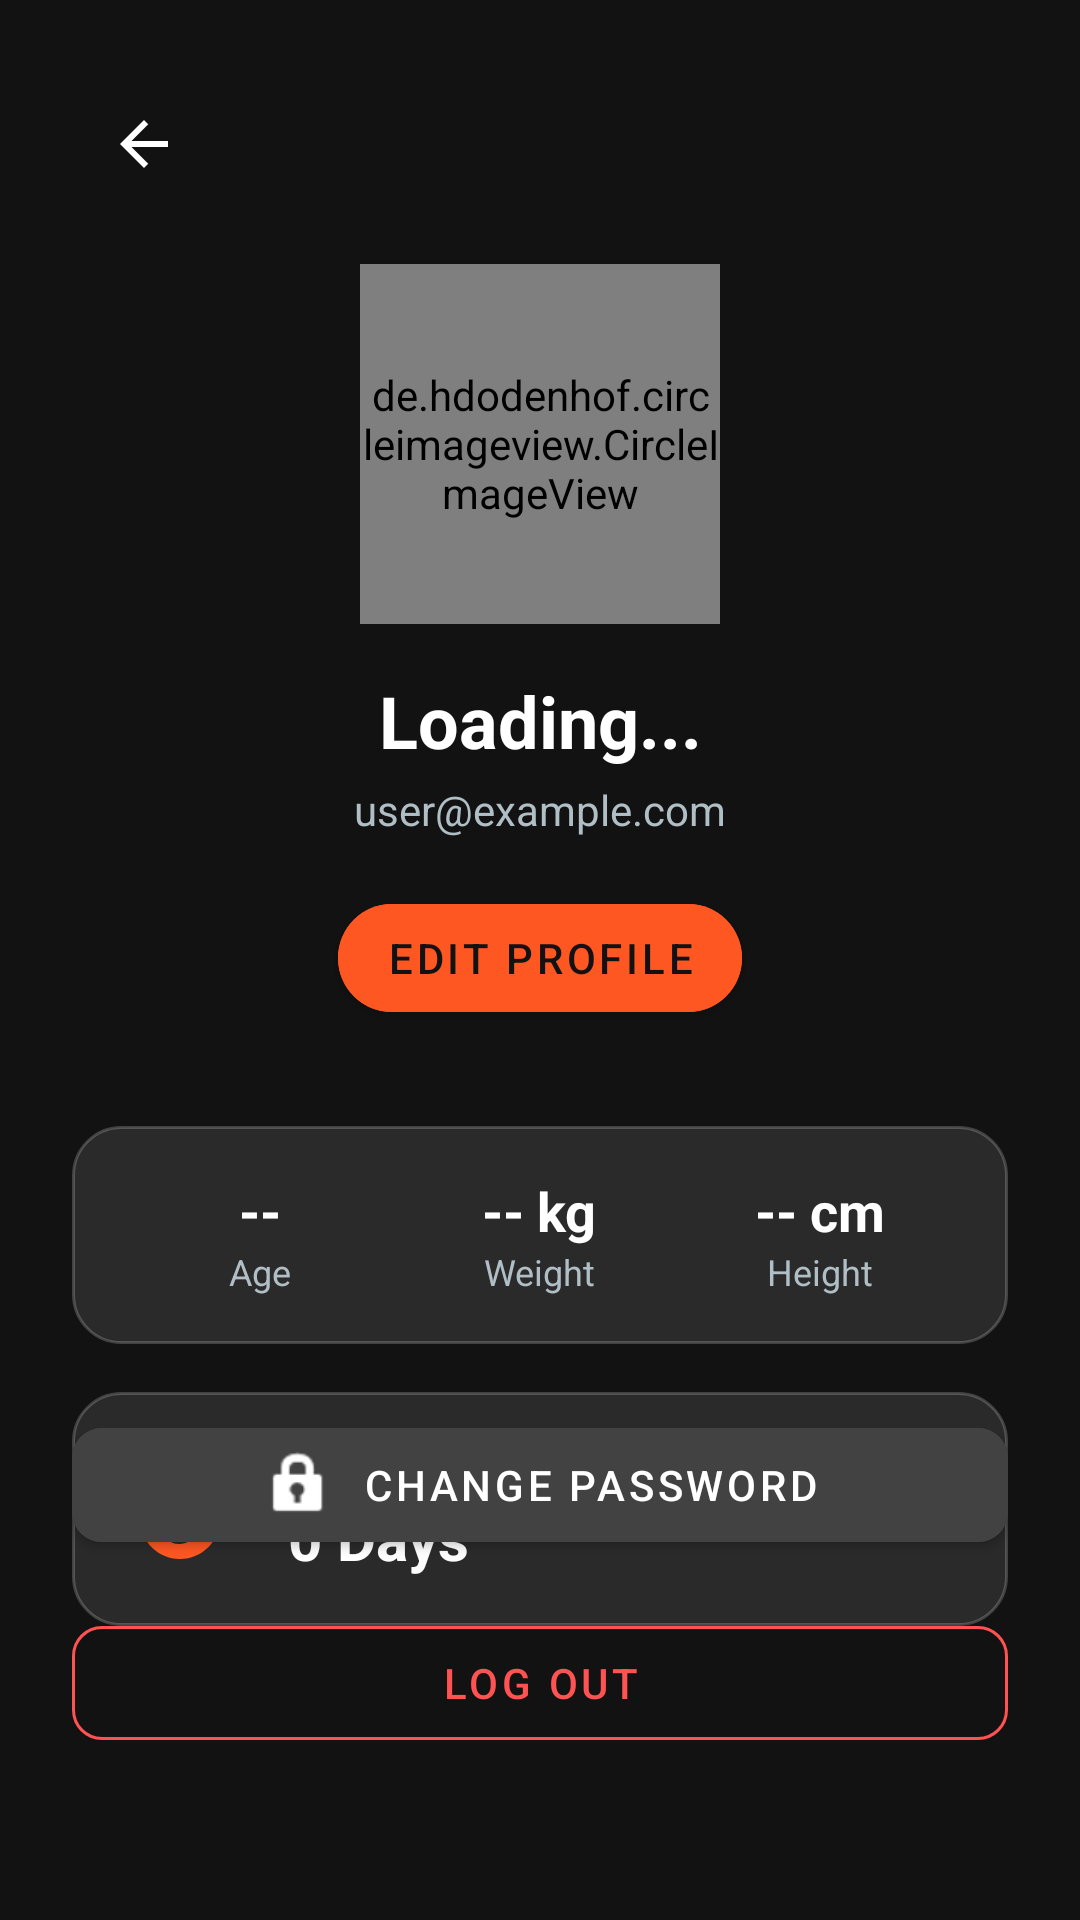

Screen size 1080 x 1920. Icon name, then its center in pixels as (x,y):
Go Back: (144,144)
